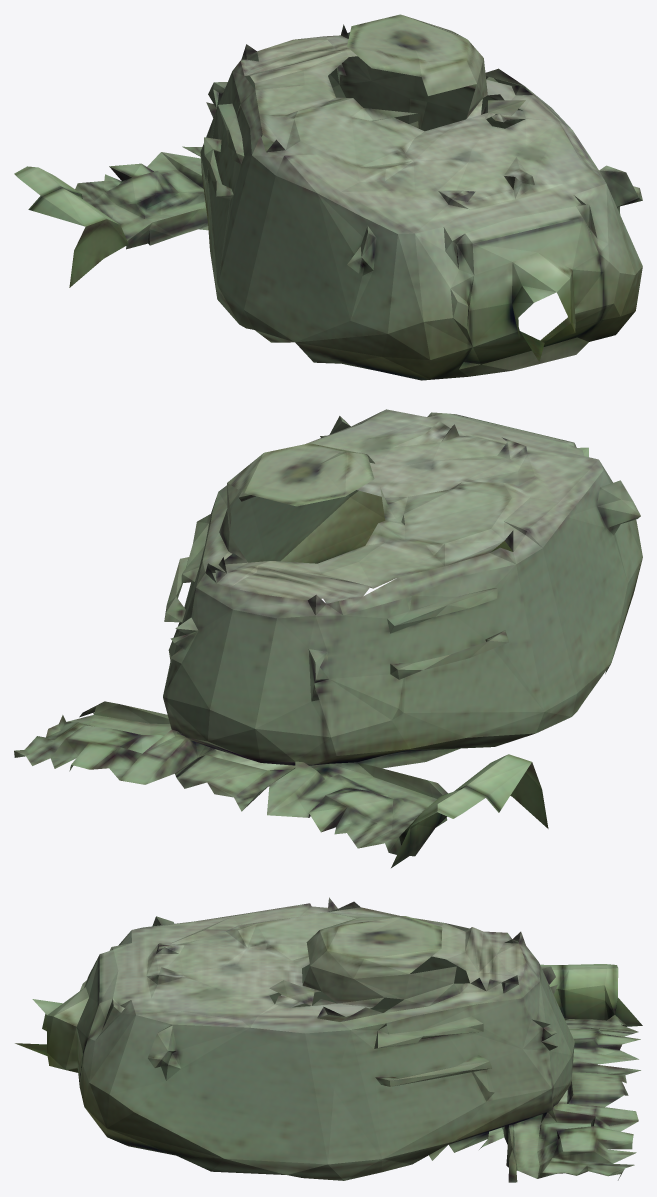
The model's file is is2_turret.obj.
3 renders of one model, top to bottom at view 1: azimuth 30°, elevation 25°; view 2: azimuth 150°, elevation 25°; view 3: azimuth 270°, elevation 25°, orthographic. The views are drawn at different scales.
Visible parts, largest first — view 1: is2_turret; view 2: is2_turret; view 3: is2_turret.
Part boxes in pixels (left/top/right/bottom): is2_turret: left=14, top=14, right=642, bottom=380; is2_turret: left=14, top=409, right=642, bottom=867; is2_turret: left=15, top=897, right=642, bottom=1182.
Bounding box in the file's own units: 2.77 × 1.4 × 3.96.
1 material, 1 textured.
